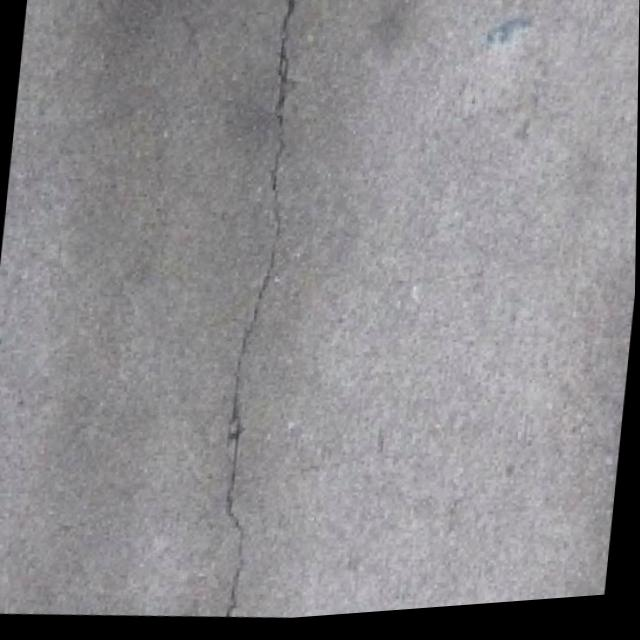Crack: (165, 0, 349, 629)
